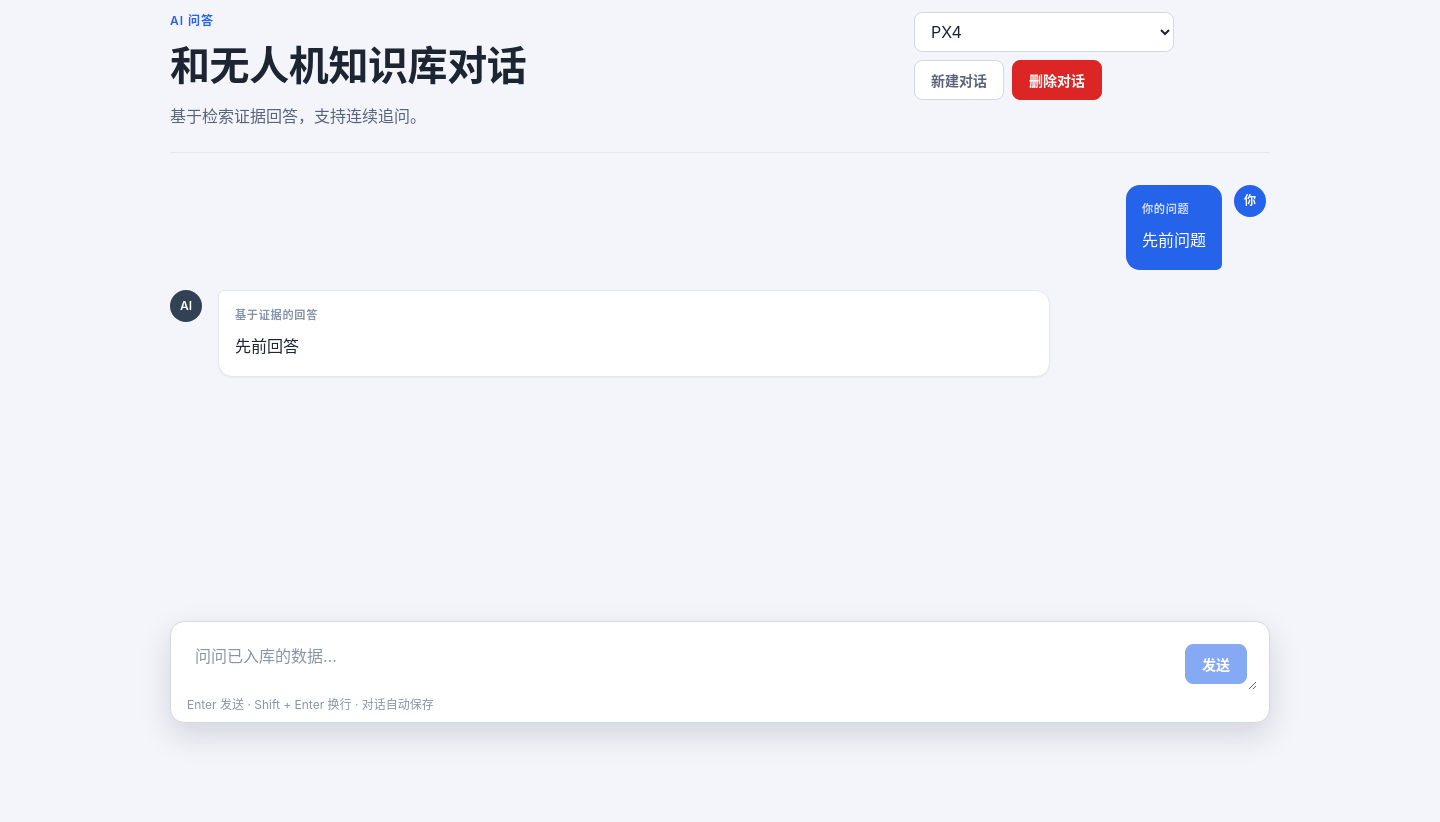
Test: AI chat streaming and sessions › restores saved history and starts a separate conversation
The width and height of the screenshot is (1440, 822).
Expected: the text "先前回答" is shown, [235,336,299,356]
Click the button "新建对话". click: (959, 80)
box: [914,60,1004,100]
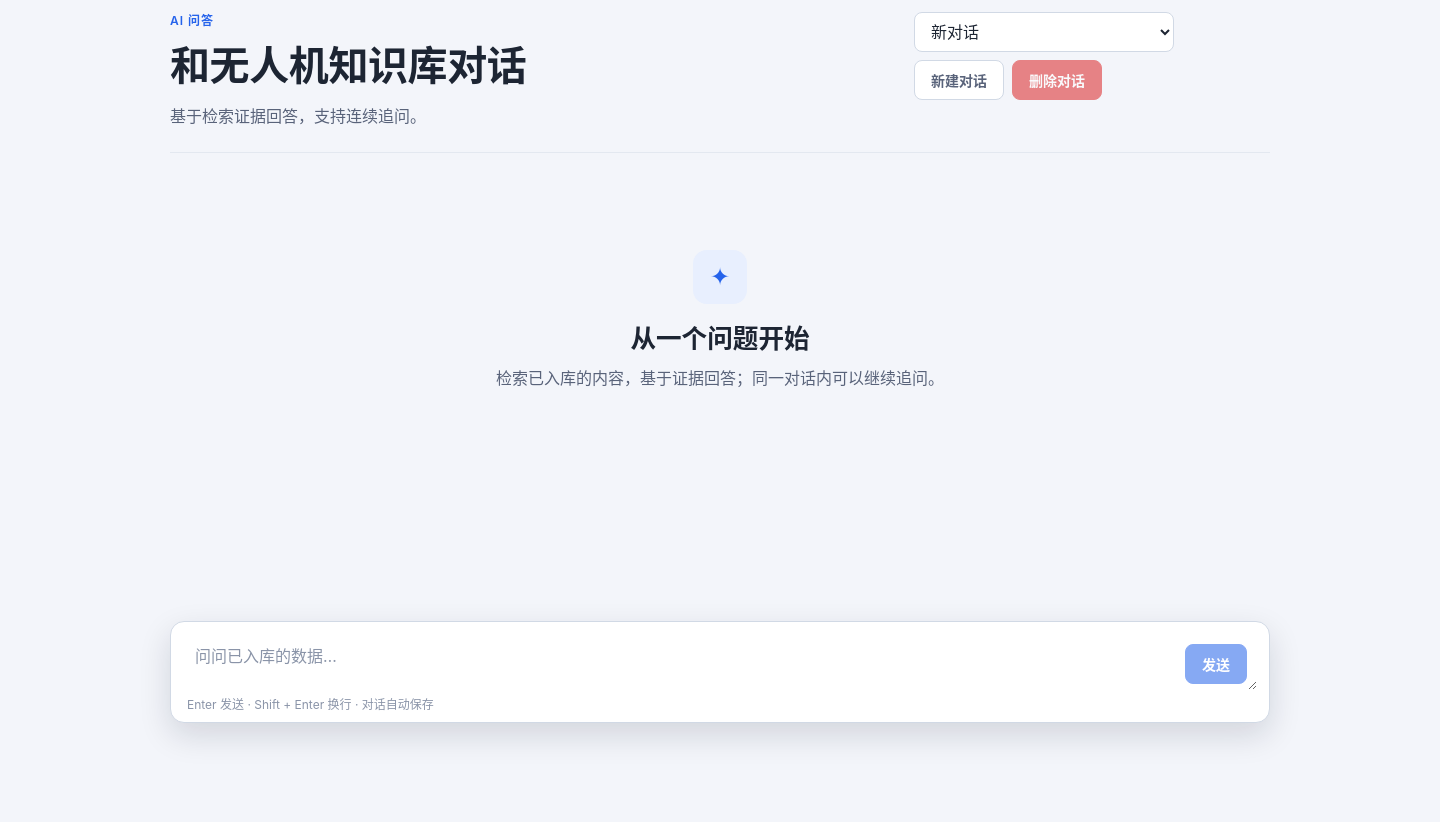
Expected: the text "先前回答" is gone
Expected: the heading "从一个问题开始" is shown, [630,320,810,358]
